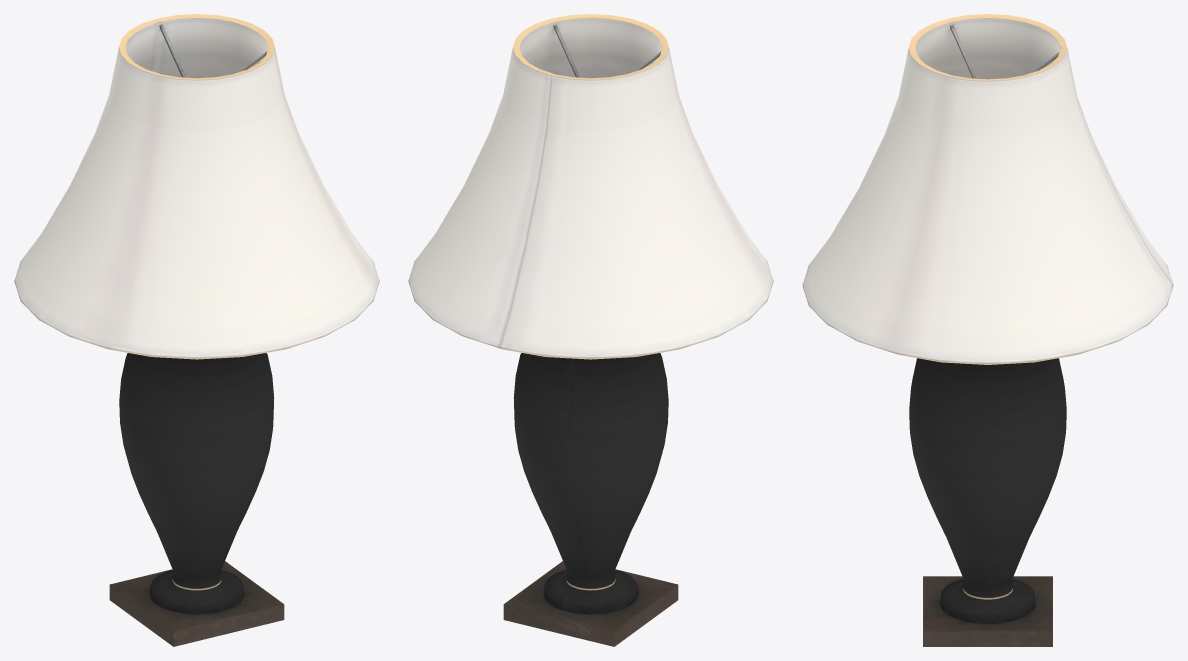
The model's file is lamp.glb.
3 views of the same model, side by side, from view 1: azimuth 30°, elevation 25°; view 2: azimuth 150°, elevation 25°; view 3: azimuth 270°, elevation 25° (orthographic).
Visible parts, largest first — view 1: Object_3; view 2: Object_3; view 3: Object_3.
Boxes of the visible parts, left/top/right/bottom form: Object_3: left=14, top=14, right=379, bottom=646; Object_3: left=408, top=14, right=773, bottom=646; Object_3: left=802, top=14, right=1173, bottom=646.
Bounding box in the file's own units: 27.45 × 46.69 × 27.45.
1 material, 1 textured.
